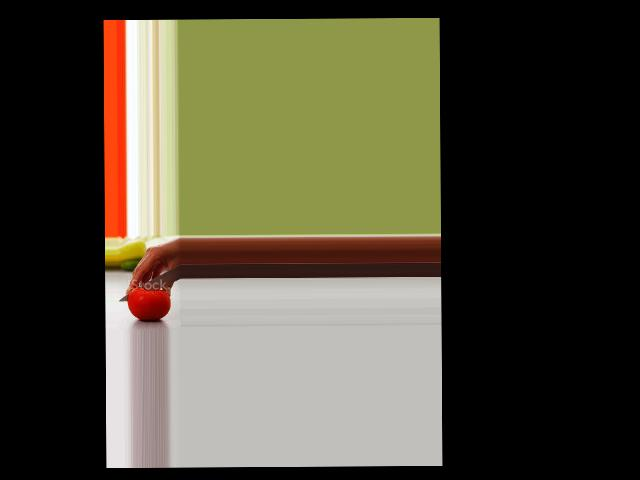tomato: (127, 287, 171, 321)
